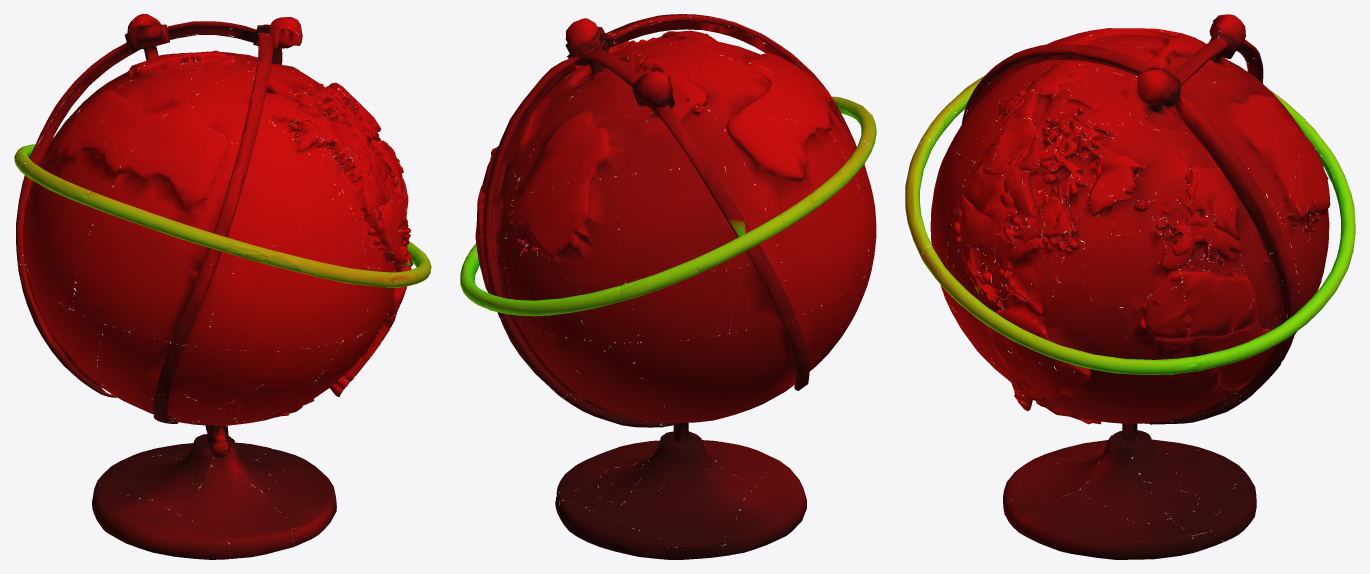
File: globe.glb
3 views of the same model, side by side, from view 1: azimuth 30°, elevation 25°; view 2: azimuth 150°, elevation 25°; view 3: azimuth 270°, elevation 25° (orthographic). The views are drawn at different scales.
Visible parts, largest first — view 1: tripo_node_ae5b8865-8938-4429-9232-635f204fb512; view 2: tripo_node_ae5b8865-8938-4429-9232-635f204fb512; view 3: tripo_node_ae5b8865-8938-4429-9232-635f204fb512.
Boxes of the visible parts, x1,y1,x2,y2 form: tripo_node_ae5b8865-8938-4429-9232-635f204fb512: (14, 14, 431, 559); tripo_node_ae5b8865-8938-4429-9232-635f204fb512: (460, 14, 876, 559); tripo_node_ae5b8865-8938-4429-9232-635f204fb512: (905, 14, 1355, 559).
Size of the model in its own units: 0.7821 by 0.9817 by 0.8332.
